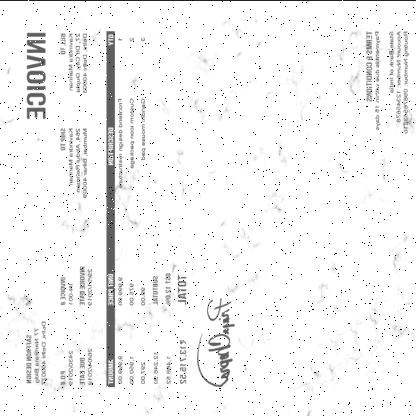Paragraph: (365, 28, 410, 134), (60, 126, 89, 198), (26, 30, 47, 119), (60, 31, 88, 93), (24, 318, 48, 387), (176, 272, 188, 384), (79, 264, 93, 306), (58, 348, 73, 386), (79, 346, 93, 386), (58, 274, 74, 307)
Table: (106, 30, 172, 388)
